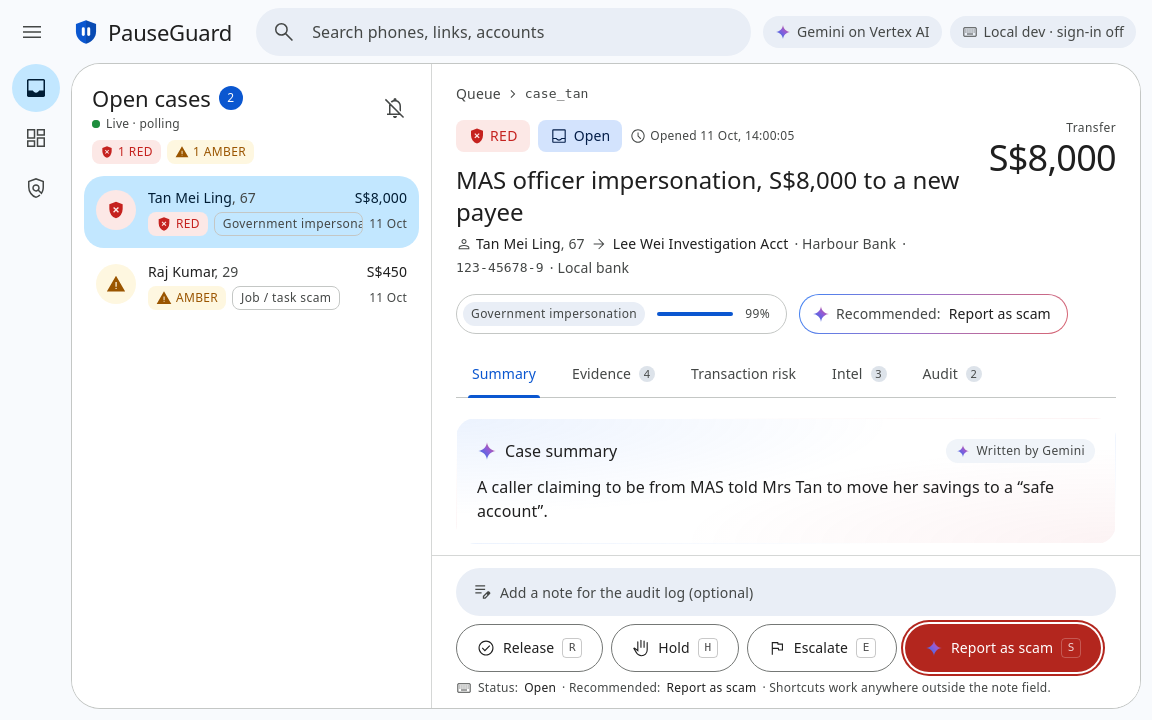
Test case: pressing S reports the scam with the note and shows the watchlist toast
expect the element with test id "case-view" is shown: met, box [432,64,1140,708]
# typing in the note never triggers a shortcut
In the field labelled "Add a note for the audit log (optional)": [800, 592] box [500,568,1100,616], type "Confirmed with son"
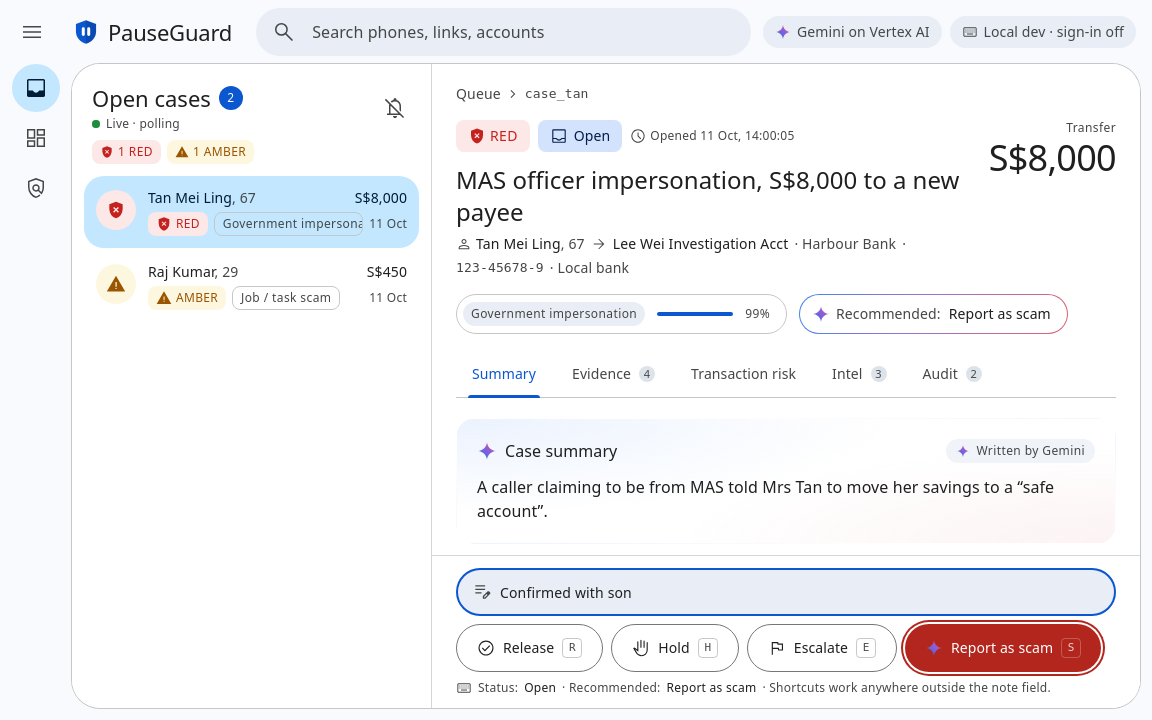
Click the element that starts with "Skip to content": [576, 360] box [0,0,1151,719]
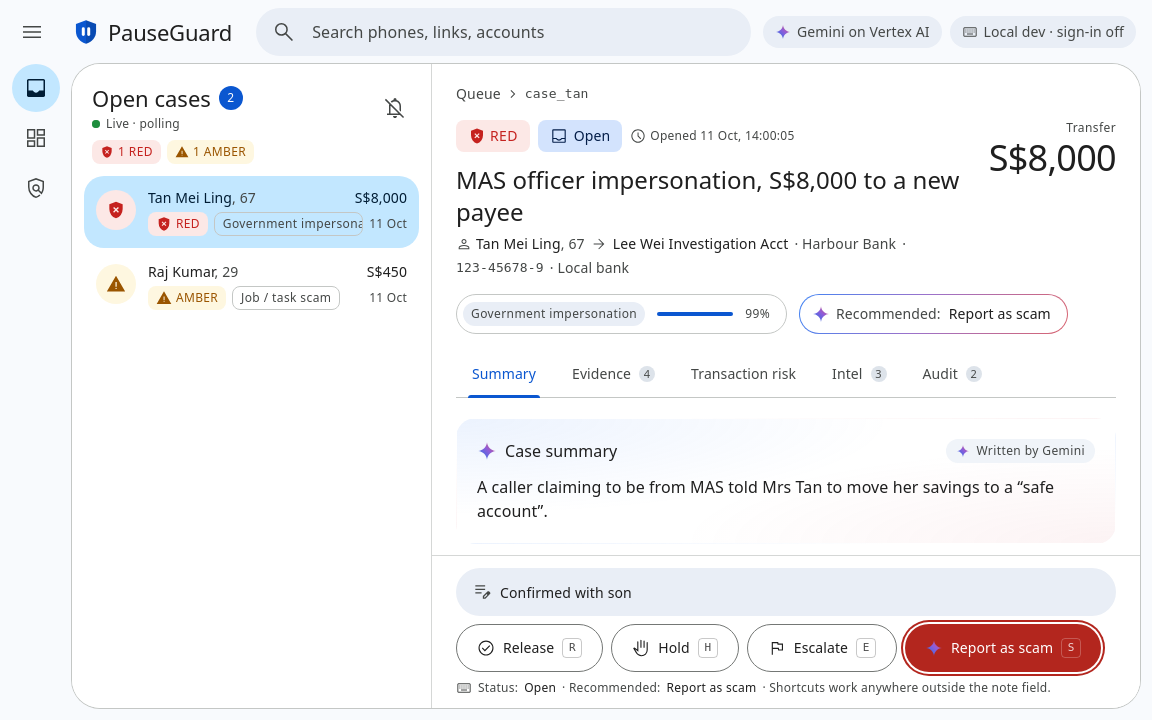
Type keys "s"
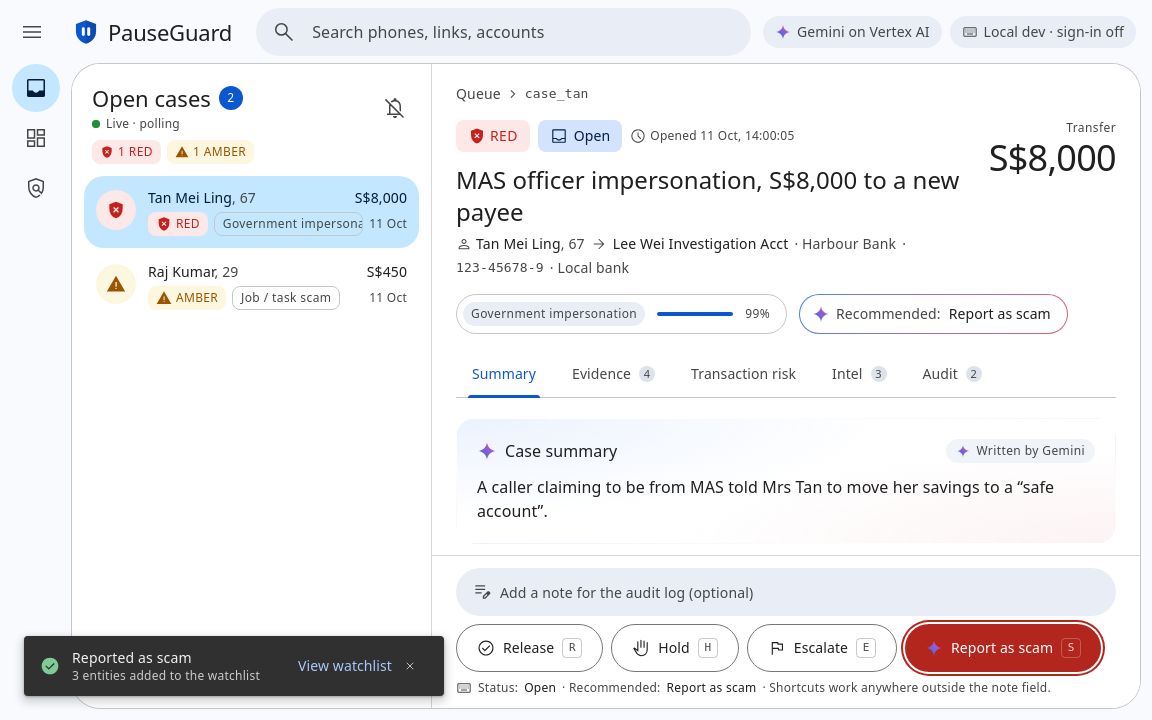
expect the text "Reported as scam" is shown: met, box [72,648,192,667]
expect the text "3 entities added to the watchlist" is shown: met, box [72,668,260,684]
